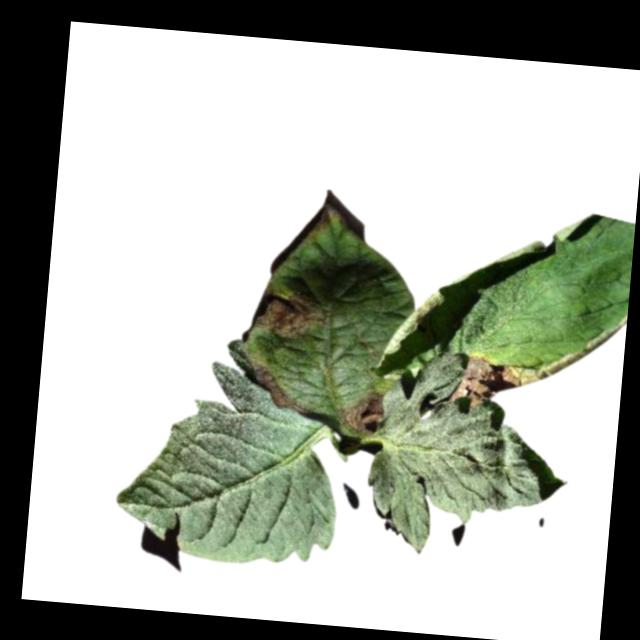Late_blight: (445, 351, 544, 418), (247, 286, 326, 341), (254, 364, 306, 411), (339, 387, 384, 437), (303, 203, 349, 244)
